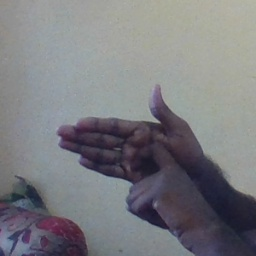R: (55, 82, 205, 222)
